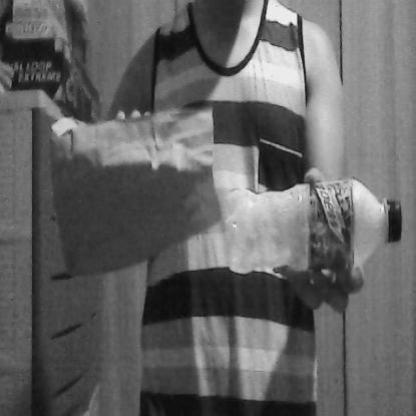Plastic Bottle: (222, 164, 407, 280)
